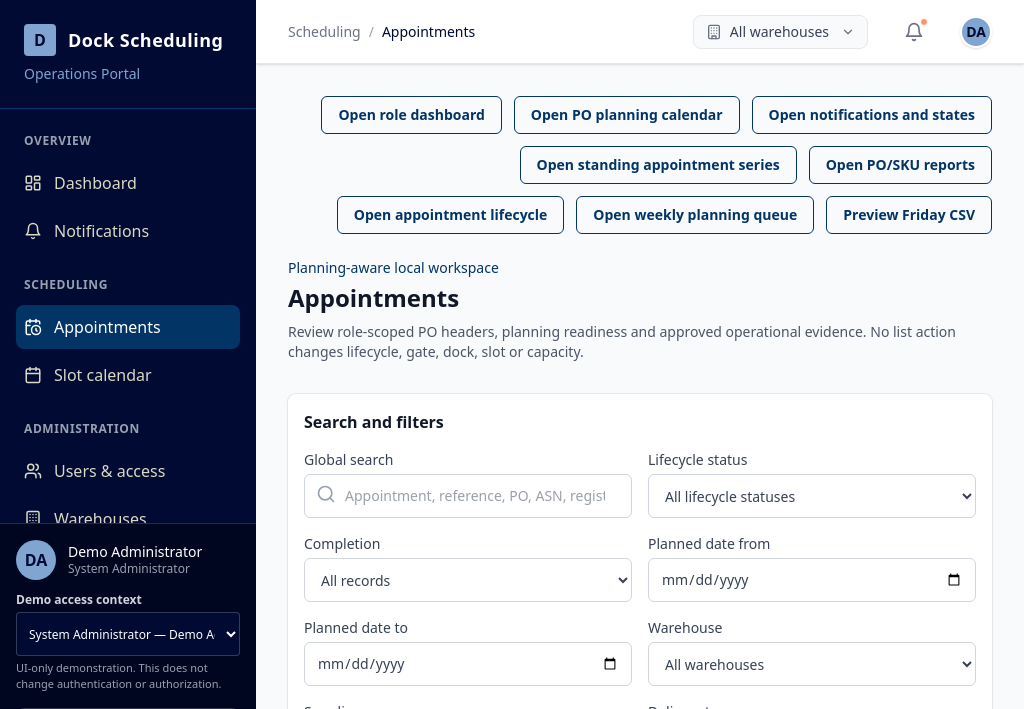
Test: non-weekly booking AppRoutes integration › shows the route link only to Supplier actors and opens the five-step page
Check: the heading "Appointments" is shown, box 288,281 -> 459,314
Check: the link "Create standard appointment" is not shown
Select "Supplier Administrator — Eve Northstar" in the dropdown labelled "Demo access context" at (128, 634), box 16,612 -> 240,656
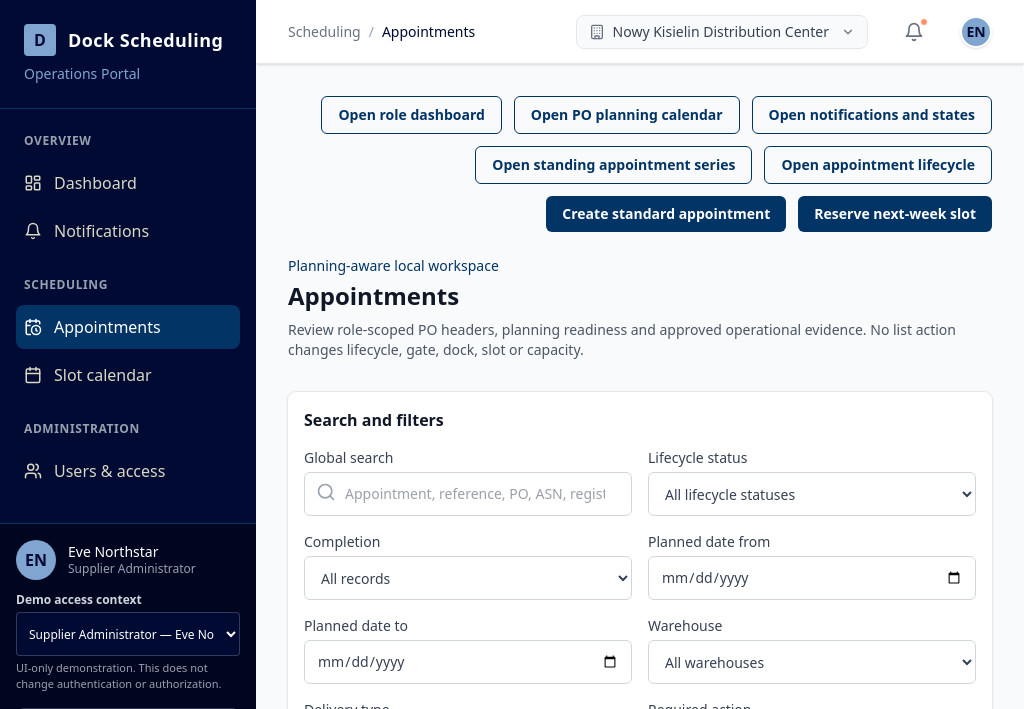
Click the link "Create standard appointment".
click(666, 214)  # box 546,196 -> 786,232
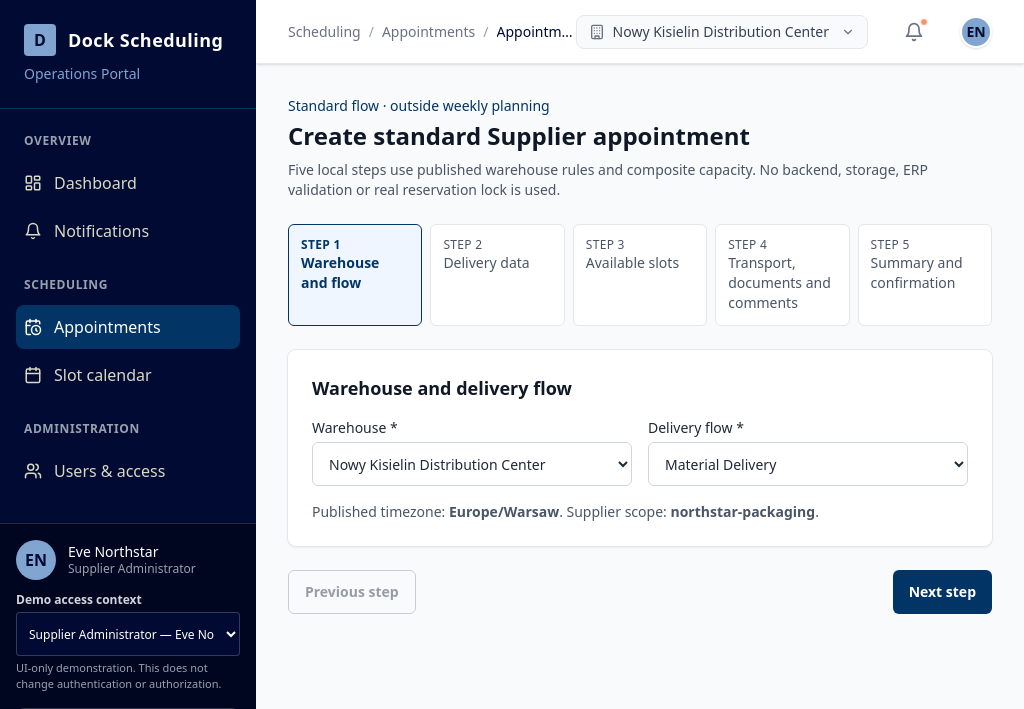
Check: the heading "Create standard Supplier appointment" is shown, box 288,119 -> 750,152
Check: the text "Standard flow · outside weekly planning" is shown, box 288,96 -> 550,115
Check: the text "Step 1" is shown 5 times, box 301,236 -> 341,253; 443,236 -> 482,253; 586,236 -> 625,253; 728,236 -> 767,253; 871,236 -> 910,253
Select "System Administrator — Demo Administrator" in the dropdown labelled "Demo access context" at (128, 634), box 16,612 -> 240,656
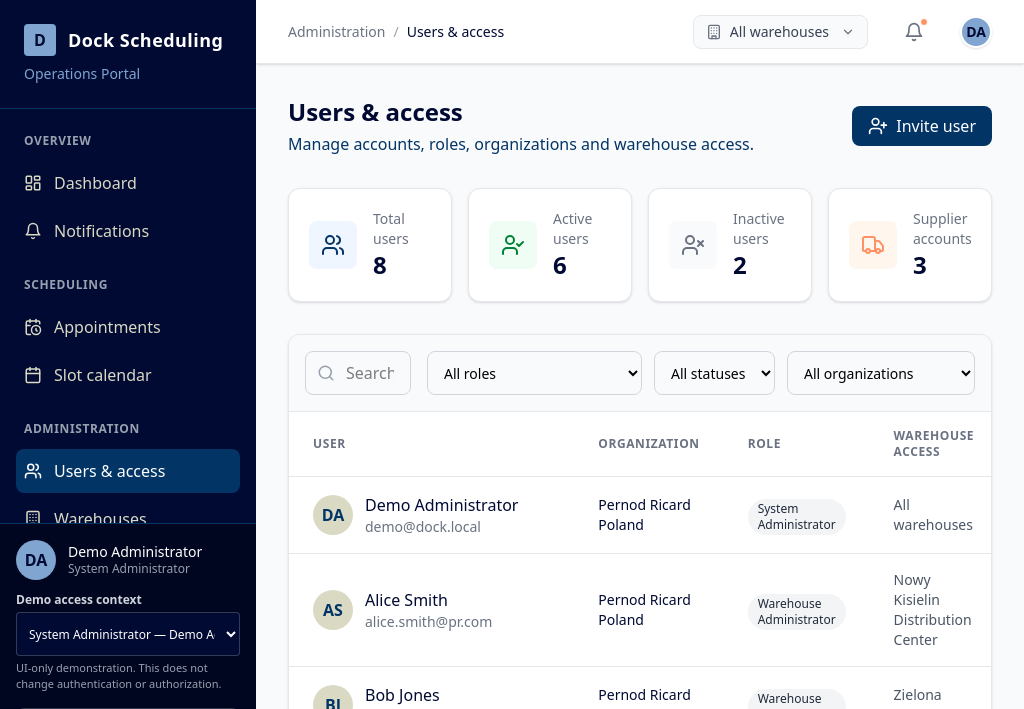
Check: the heading "Users & access" is shown, box 288,95 -> 463,128
Check: the heading "Create standard Supplier appointment" is gone
